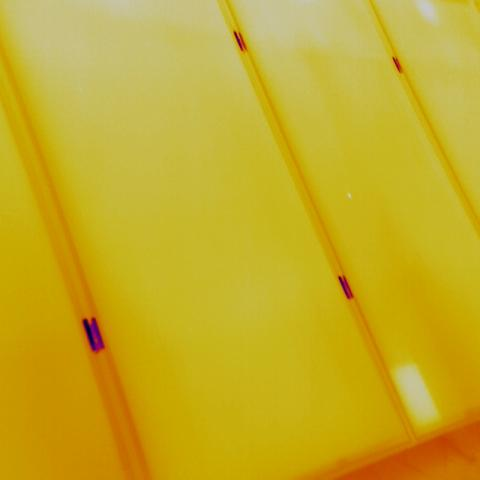fault: (384, 359, 452, 434)
